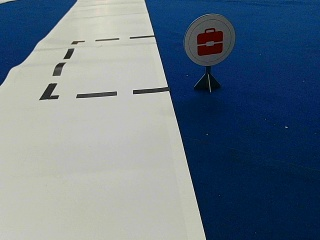company: (184, 14, 235, 64)
